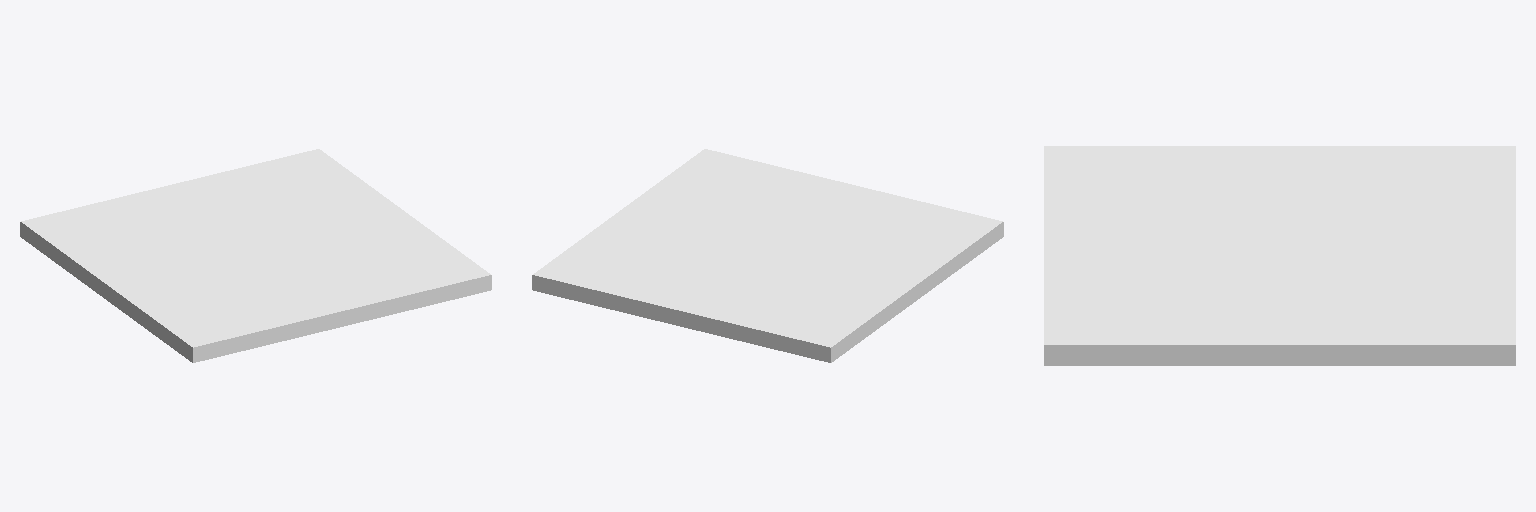
URDF robot description (plane):
<?xml version="0.0" ?>
<robot name="plane">
  <link name="planeLink">
  <contact>
      <lateral_friction value="1"/>
  </contact>
    <inertial>
      <origin rpy="0 0 0" xyz="0 0 0"/>
       <mass value=".0"/>
       <inertia ixx="0" ixy="0" ixz="0" iyy="0" iyz="0" izz="0"/>
    </inertial>
    <visual>
      <origin rpy="0 0 0" xyz="0 0 0"/>
      <geometry>
				<!-- <mesh filename="plane100.obj" scale="1 1 1"/> -->
        <box size="200 200 10"/>
      </geometry>
       <material name="white">
        <color rgba="1 1 1 1"/>
      </material>
    </visual>
    <collision>
      <origin rpy="0 0 0" xyz="0 0 0"/>
      <geometry>
        <box size="200 200 10"/>
      </geometry>
    </collision>
  </link>
</robot>

--- What the picture shows (computed from the rendered views, not written in the file) ---
The picture shows the robot from 3 angles, left to right: view 1: azimuth 30°, elevation 25°; view 2: azimuth 150°, elevation 25°; view 3: azimuth 270°, elevation 25°; orthographic projection.
Model plane with 1 links and 0 joints (none), rooted at planeLink, posed all joints at 0.
Visible links, largest first — view 1: planeLink; view 2: planeLink; view 3: planeLink.
Boxes of the visible links, left/top/right/bottom form: planeLink: left=20, top=149, right=491, bottom=362; planeLink: left=532, top=149, right=1003, bottom=362; planeLink: left=1044, top=146, right=1515, bottom=365.
Size in the robot's own frame: 200 by 200 by 10 metres.
Geometry: primitives only (box / cylinder / sphere), no mesh files.
